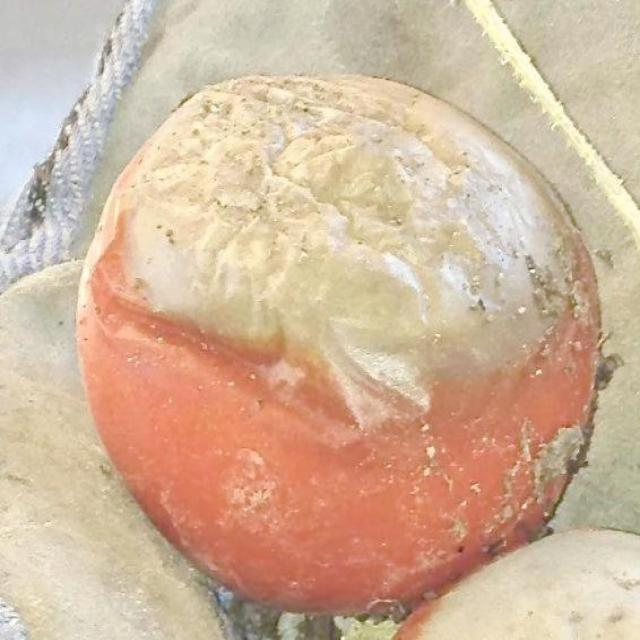Sunscald Fruit: (76, 50, 386, 282)
